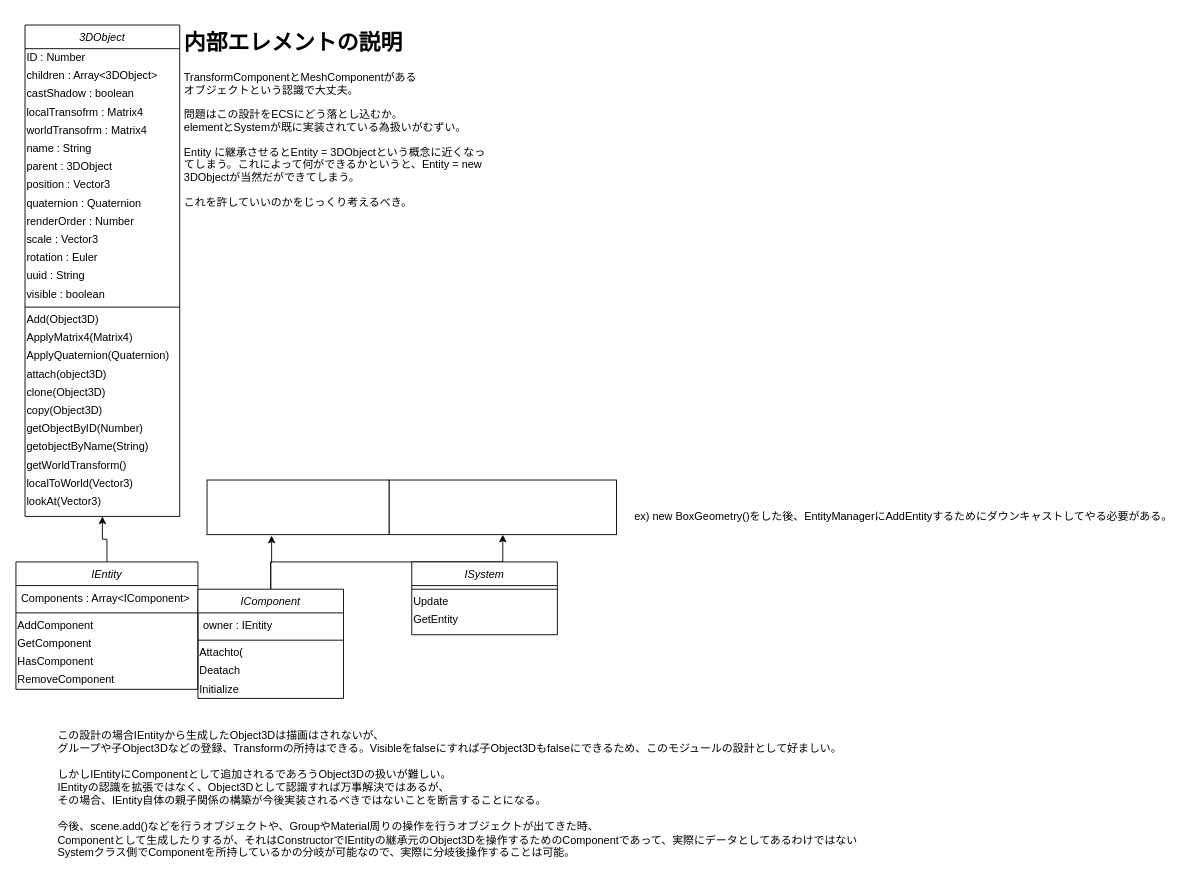
Image size: 1197x877. Some labels were removed from this diagram. The centre of each missing label's shape, as x and y in pixels:
"3DObjectを継承したThree.jsのオブジェクト" goes at (x=502, y=507).
"自作コンポーネントオブジェクト" goes at (x=297, y=507).
